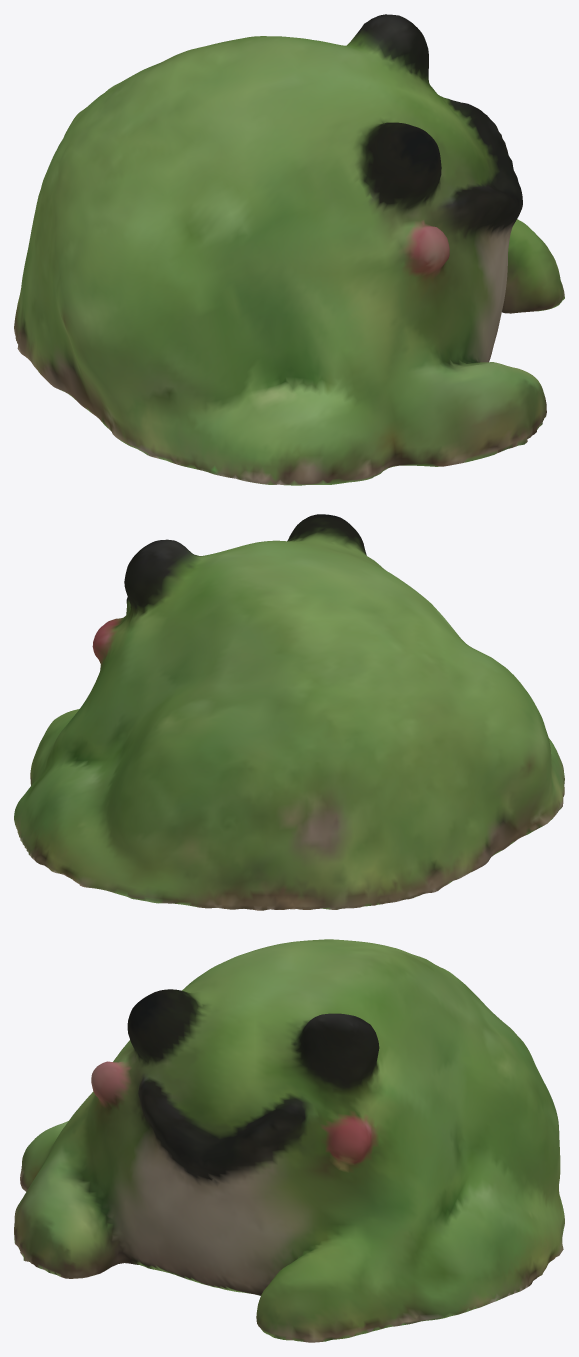
Rendered from good_froge.glb.
3 views of the same model, one above another, from view 1: azimuth 30°, elevation 25°; view 2: azimuth 150°, elevation 25°; view 3: azimuth 270°, elevation 25° (orthographic). The views are drawn at different scales.
Parts seen in each view (by area): view 1: Good_Froge-Clean_up_BaseSculpt; view 2: Good_Froge-Clean_up_BaseSculpt; view 3: Good_Froge-Clean_up_BaseSculpt.
Boxes of the visible parts, bbox=[...] form: Good_Froge-Clean_up_BaseSculpt: bbox=[14, 14, 564, 485]; Good_Froge-Clean_up_BaseSculpt: bbox=[14, 514, 564, 910]; Good_Froge-Clean_up_BaseSculpt: bbox=[14, 939, 564, 1342].
Size of the model in its own units: 0.9154 by 0.4915 by 0.9299.
